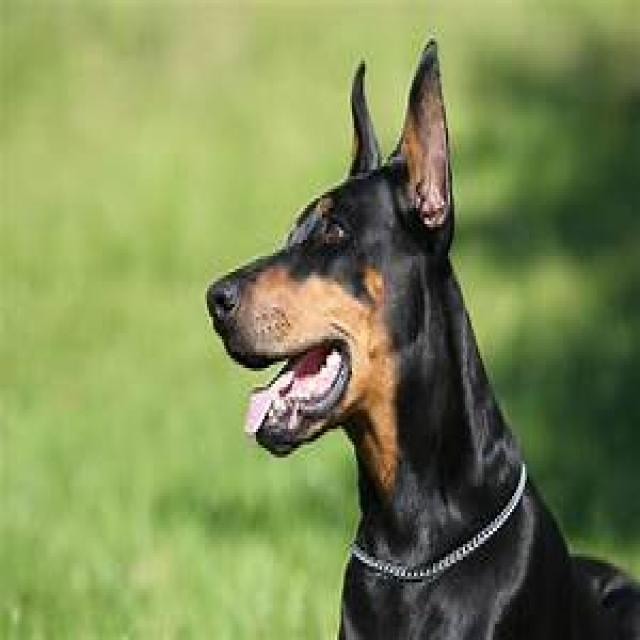dog: (205, 42, 640, 640)
